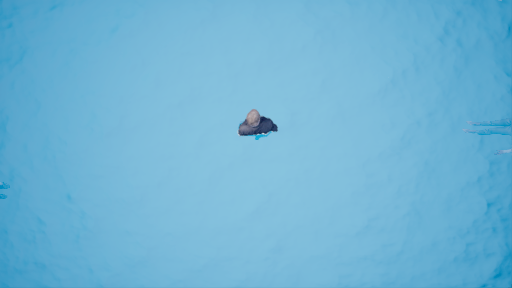person: (229, 102, 284, 148)
